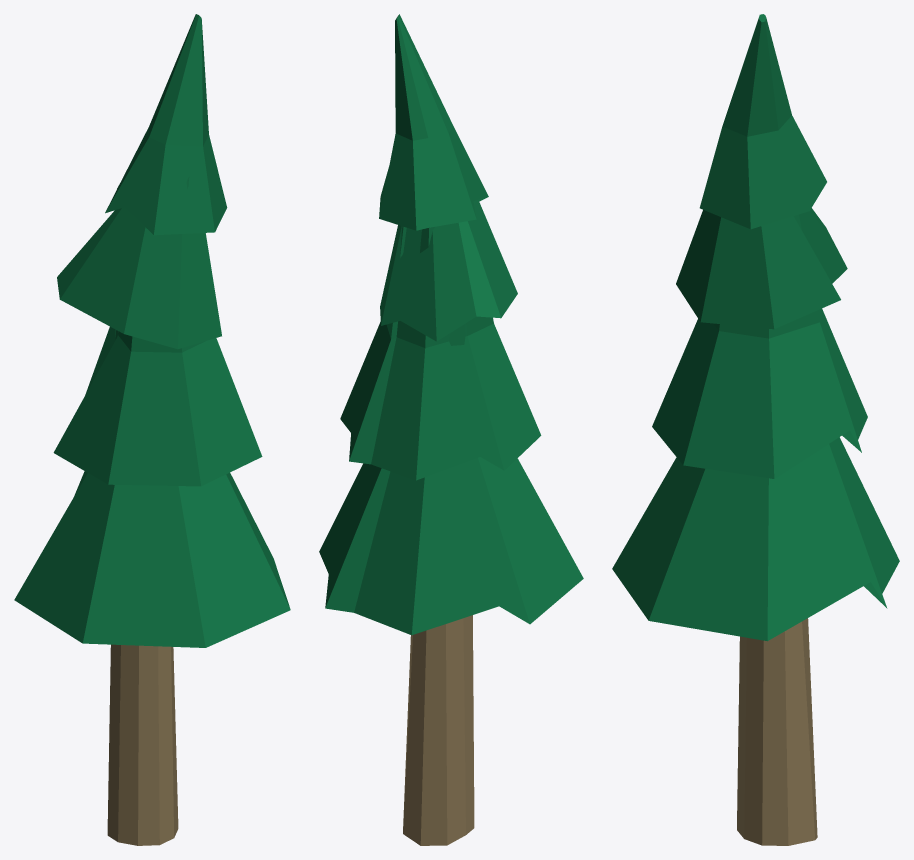
Rendered from Tree2.fbx.
3 views of the same model, side by side, from view 1: azimuth 30°, elevation 25°; view 2: azimuth 150°, elevation 25°; view 3: azimuth 270°, elevation 25° (orthographic). The views are drawn at different scales.
Parts seen in each view (by area): view 1: Cylinder.028; view 2: Cylinder.028; view 3: Cylinder.028.
Boxes of the visible parts, x1,y1,x2,y2 form: Cylinder.028: [14, 14, 290, 845]; Cylinder.028: [319, 14, 583, 845]; Cylinder.028: [612, 14, 899, 845].
Size of the model in its own units: 172 by 566 by 174.
